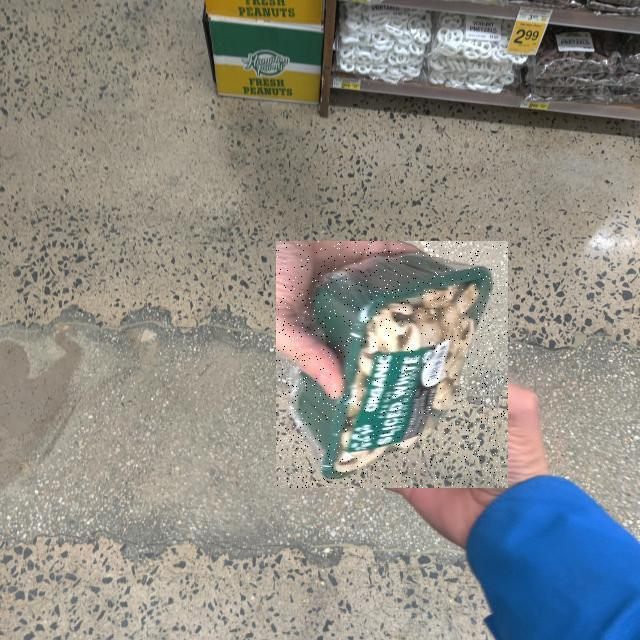Mushroom: (276, 241, 508, 488)
